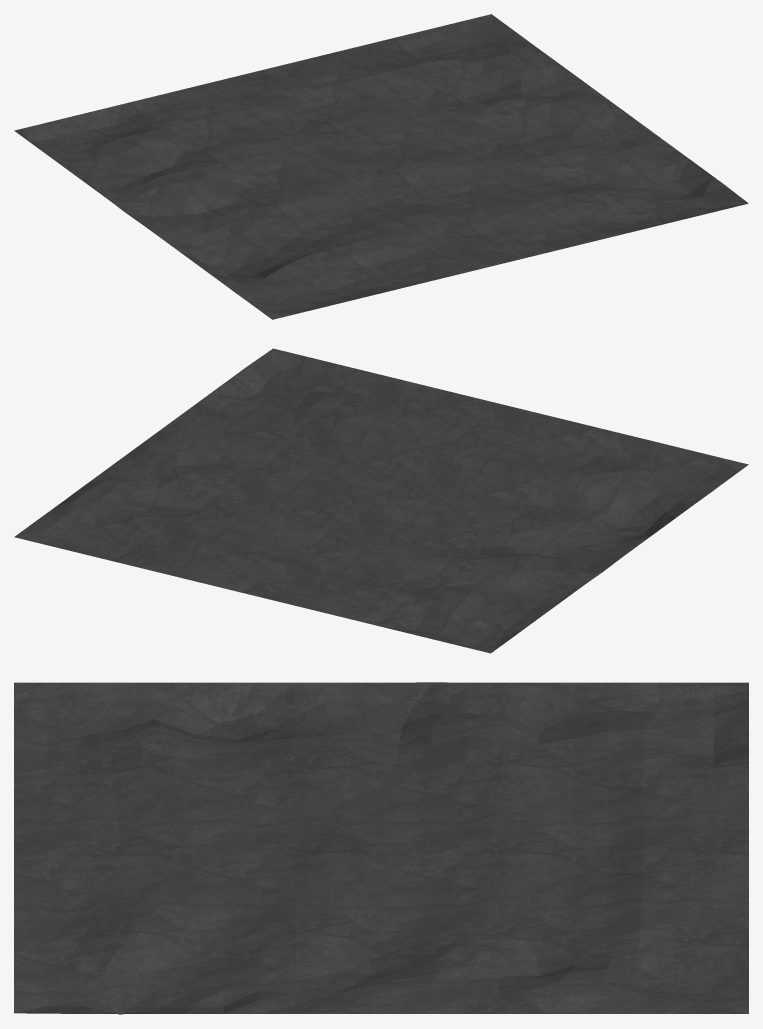
The model's file is FloorSlop01.fbx.
3 views of the same model, one above another, from view 1: azimuth 30°, elevation 25°; view 2: azimuth 150°, elevation 25°; view 3: azimuth 270°, elevation 25° (orthographic). The views are drawn at different scales.
Parts seen in each view (by area): view 1: SM_ENV_NATURE_Cave_Floor_Slope_15m.mo; view 2: SM_ENV_NATURE_Cave_Floor_Slope_15m.mo; view 3: SM_ENV_NATURE_Cave_Floor_Slope_15m.mo.
Boxes of the visible parts, left/top/right/bottom form: SM_ENV_NATURE_Cave_Floor_Slope_15m.mo: left=14, top=14, right=748, bottom=319; SM_ENV_NATURE_Cave_Floor_Slope_15m.mo: left=14, top=348, right=748, bottom=653; SM_ENV_NATURE_Cave_Floor_Slope_15m.mo: left=14, top=682, right=748, bottom=1014.
Size of the model in its own units: 1602 by 75.07 by 1500.
1 material, 1 textured.
